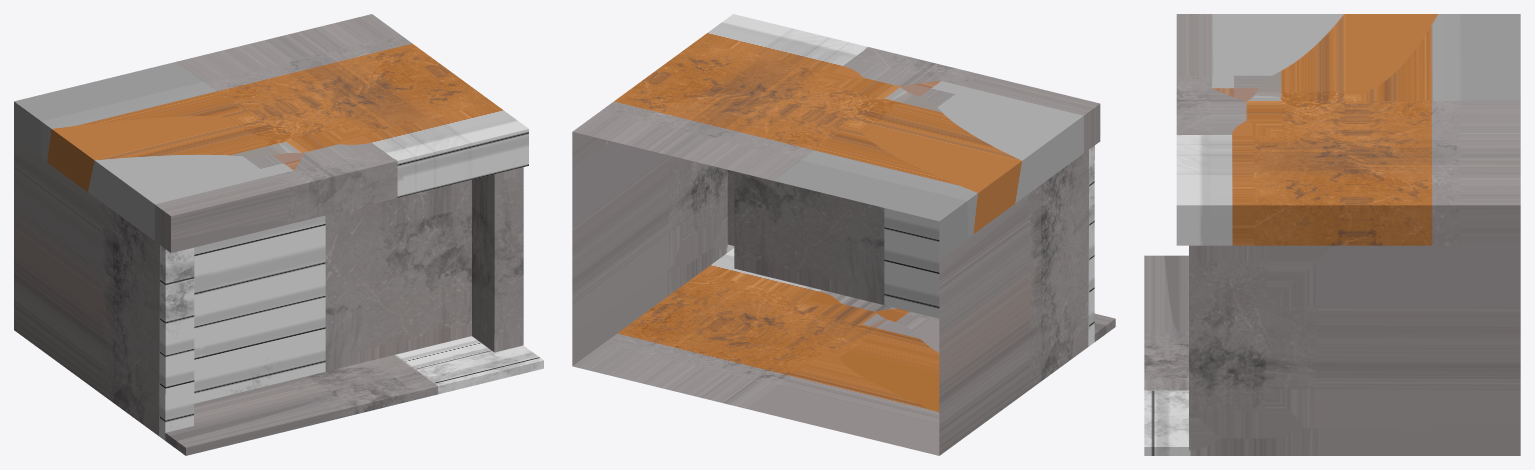
3 renders of one model, left to right at view 1: azimuth 30°, elevation 25°; view 2: azimuth 150°, elevation 25°; view 3: azimuth 270°, elevation 25°, orthographic. The views are drawn at different scales.
Visible parts, largest first — view 1: Building_2F_A2; view 2: Building_2F_A2; view 3: Building_2F_A2.
Boxes of the visible parts, x1,y1,x2,y2 form: Building_2F_A2: (14,14,543,455); Building_2F_A2: (572,14,1115,455); Building_2F_A2: (1144,14,1520,455).
Bounding box in the file's own units: 4.31 × 2.63 × 3.58.
